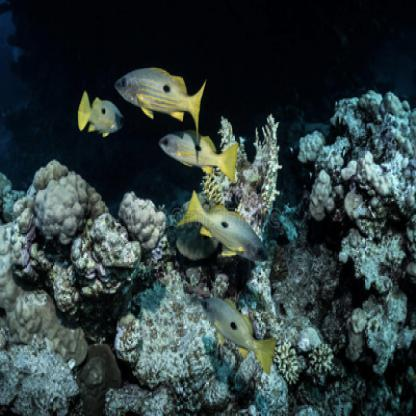Bio: (107, 62, 207, 141), (174, 186, 268, 263), (197, 291, 276, 373), (155, 127, 239, 186), (73, 83, 126, 140)
